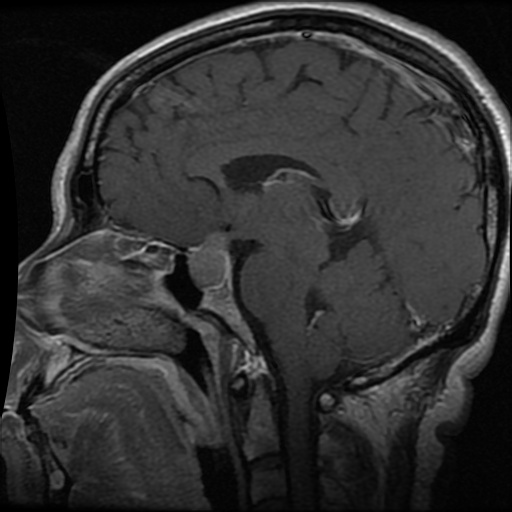pituitary: (188, 233, 231, 287)
